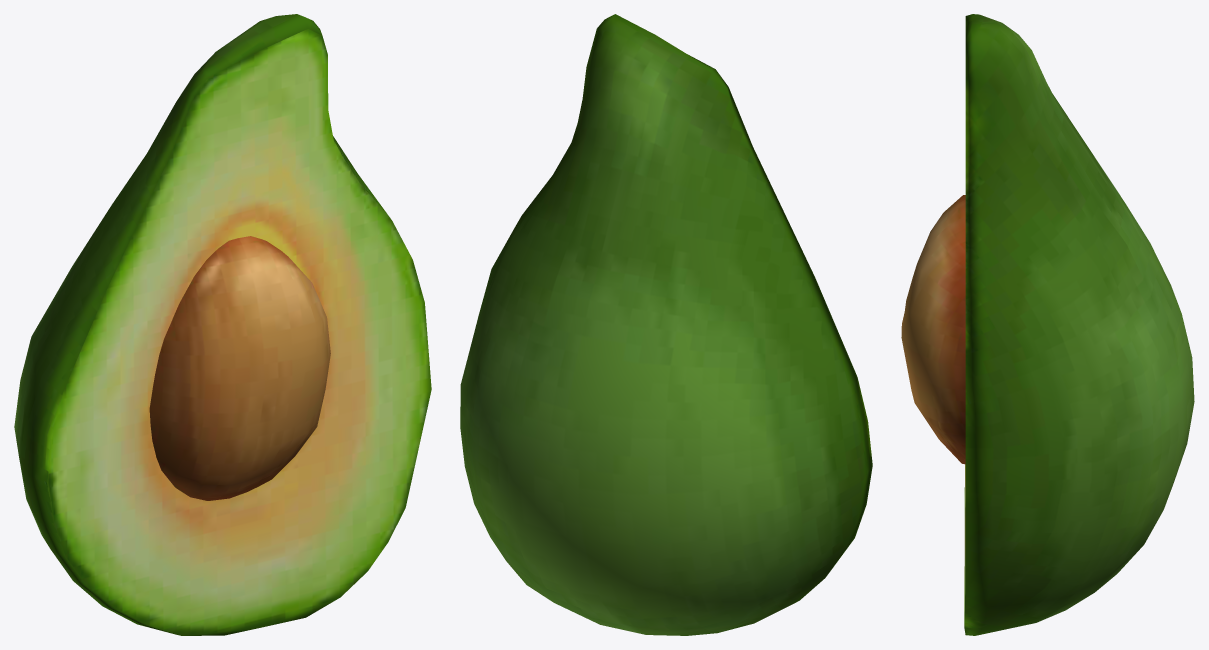
3 renders of one model, left to right at view 1: azimuth 30°, elevation 25°; view 2: azimuth 150°, elevation 25°; view 3: azimuth 270°, elevation 25°, orthographic. The views are drawn at different scales.
Visible parts, largest first — view 1: Avocado; view 2: Avocado; view 3: Avocado.
Part boxes in pixels (x1,y1,x2,y2): Avocado: (14,14,431,635); Avocado: (460,14,872,635); Avocado: (901,14,1194,635).
Bounding box in the file's own units: 0.0426 × 0.0629 × 0.0276.
Materials: 1 (1 with a texture image).
